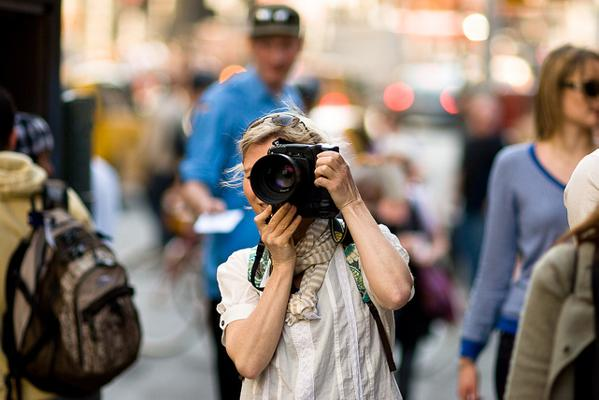person: (216, 112, 415, 400)
